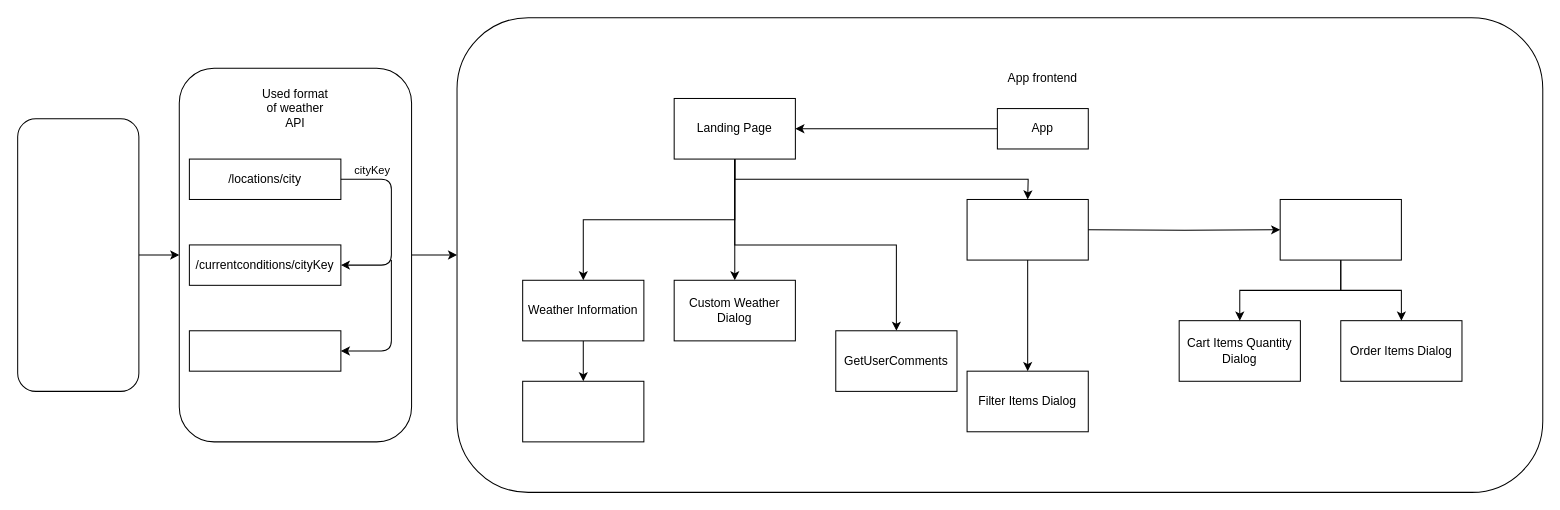
This 1560x510 diagram has some shape labels left out. The shapes that lost their labels are listed below. From the top down, each one's centre as x and y in pixels, then its label:
the point at 1027,229: Site's Shop
the point at 1340,229: Cart Page
the point at 78,254: External Weather API provided
the point at 264,350: /forecast/daily/cityKey
the point at 583,411: Weather Card Backgrounds
